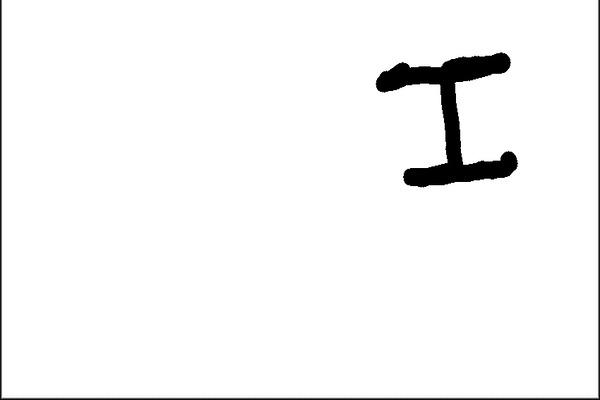i: (365, 45, 526, 193)
